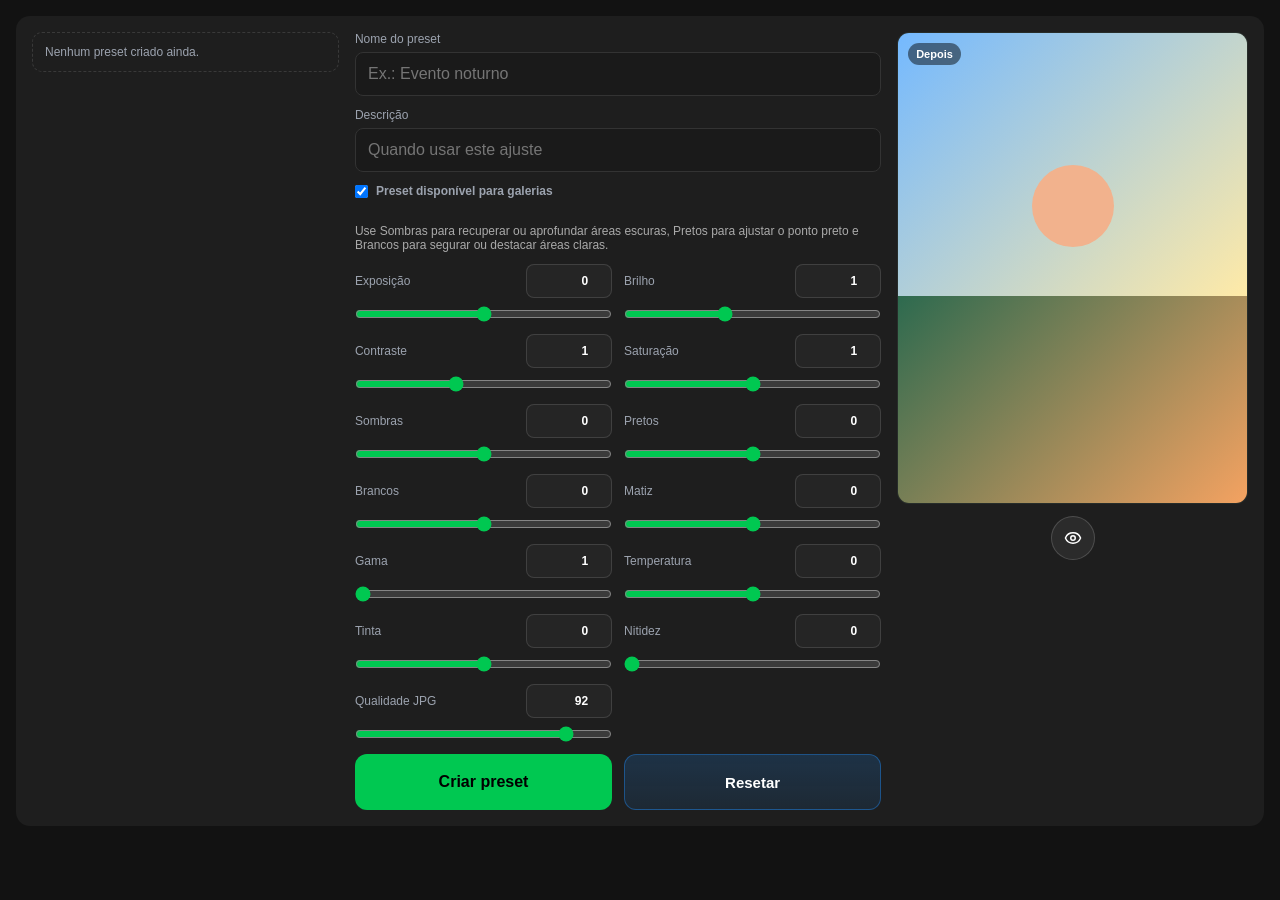
PhotoPresetSettingsPanel › keeps manual number inputs and sliders synchronized
Replace the text in the number field named "Valor de Exposição" with "1.4" at coordinates (569, 281), box [526,264,612,298]
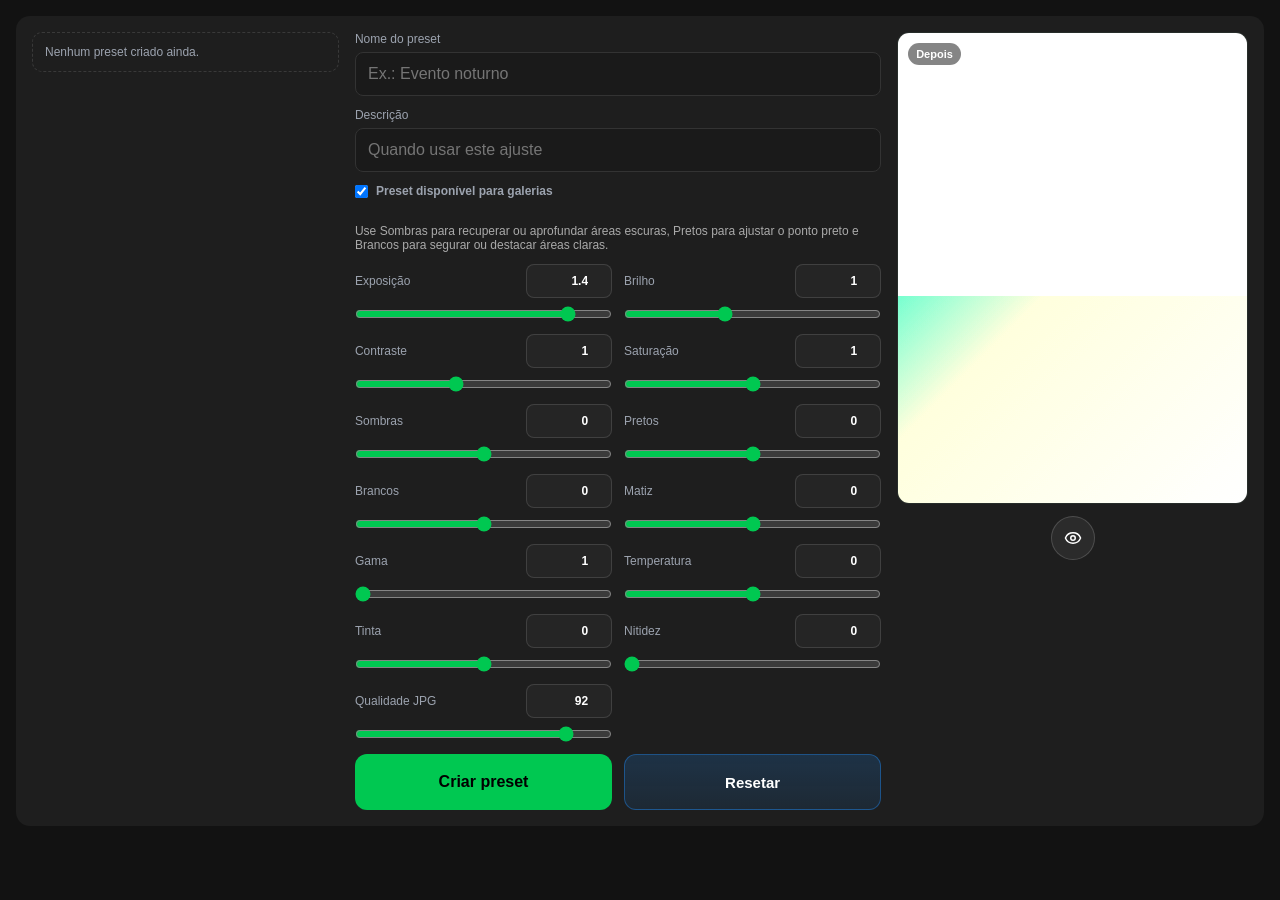
Result: the slider named "Slider de Exposição" holds "1.4"
Set the slider named "Slider de Exposição" to "-0.8" at coordinates (435, 314), box [355,306,612,322]
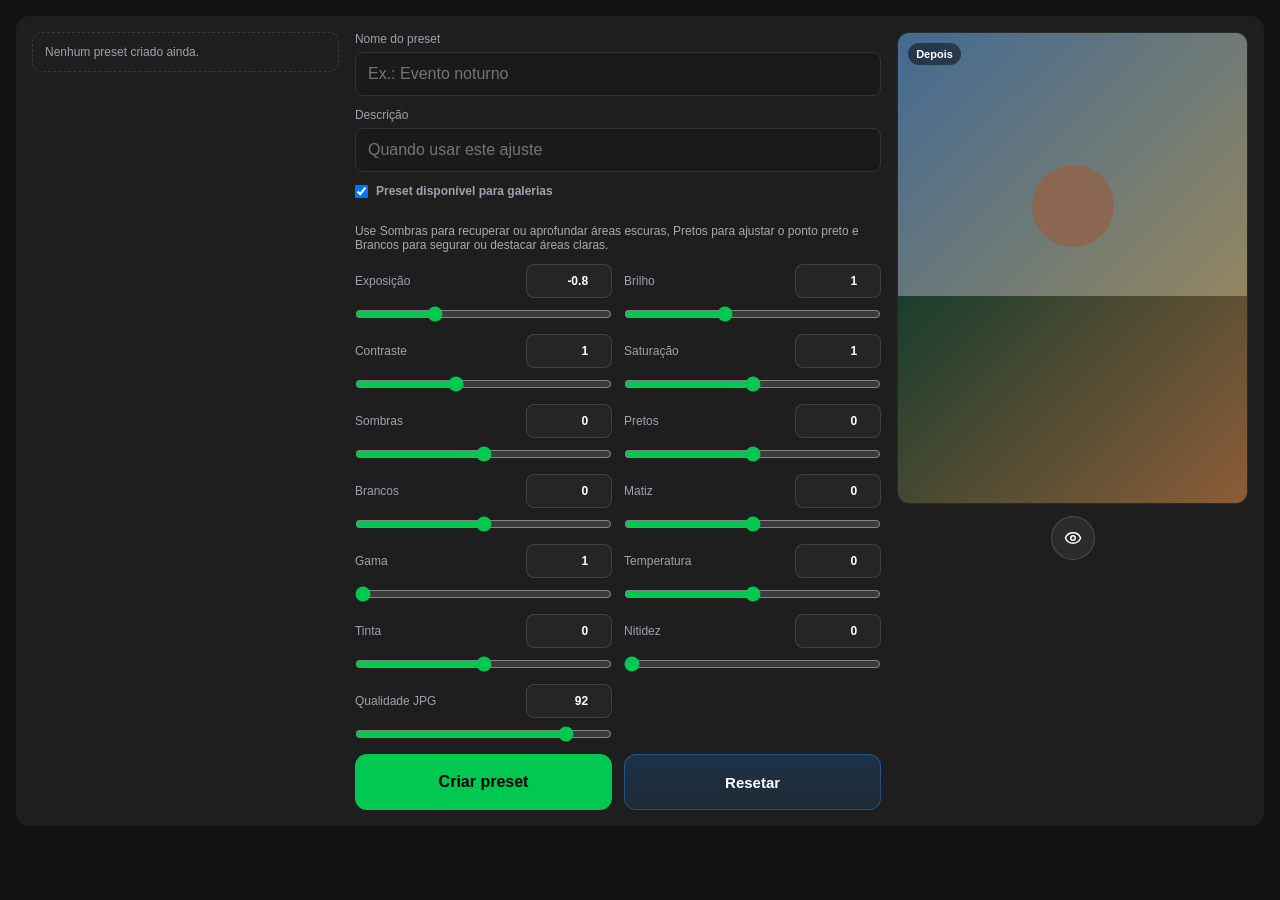
Result: the number field named "Valor de Exposição" holds "-0.8" at [526,264,612,298]
